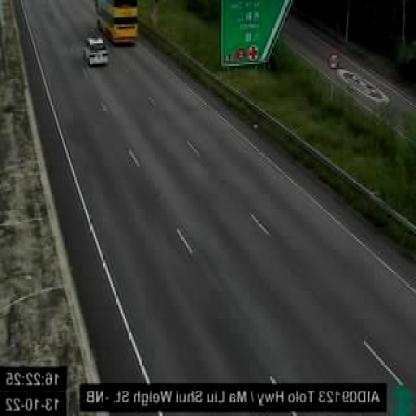Bus: (95, 1, 136, 44)
Car: (84, 36, 110, 68)
